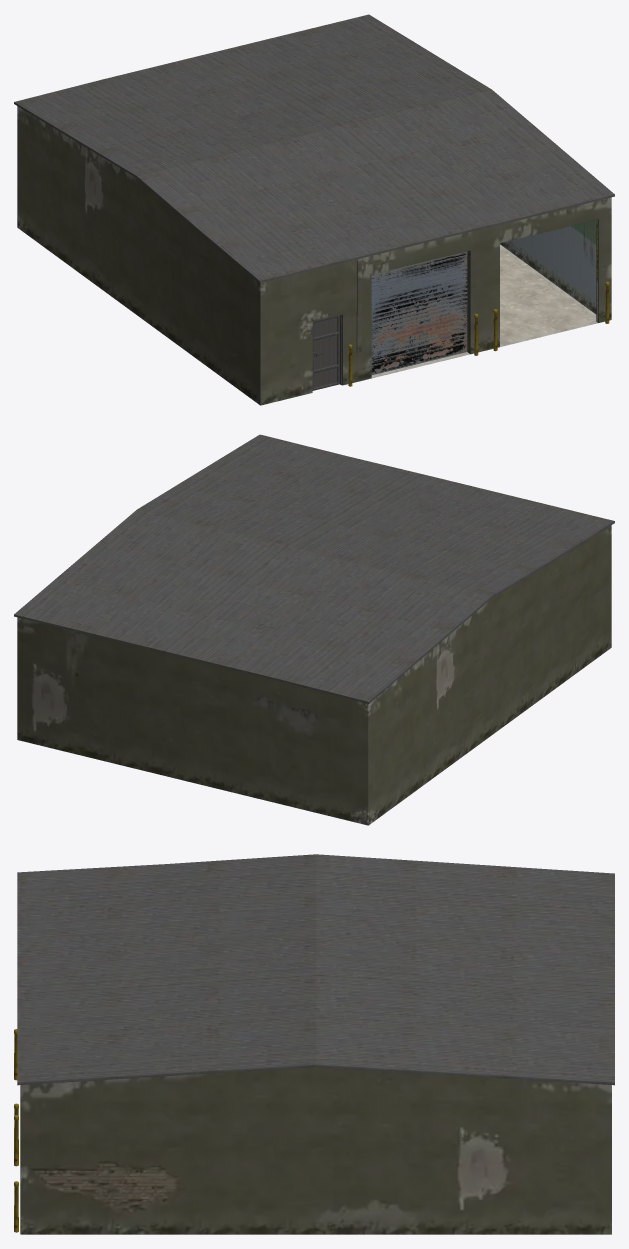
File: lm-warehouse.glb
3 views of the same model, one above another, from view 1: azimuth 30°, elevation 25°; view 2: azimuth 150°, elevation 25°; view 3: azimuth 270°, elevation 25° (orthographic). The views are drawn at different scales.
Visible parts, largest first — view 1: warehouseRoof, buildWarehouse, wareHouse-Gate, warehouseFloor, internalArea, wareHousedoor; view 2: warehouseRoof, buildWarehouse; view 3: warehouseRoof, buildWarehouse.
Part boxes in pixels (x1=…): warehouseRoof: x1=14, y1=14, x2=614, y2=282; buildWarehouse: x1=17, y1=106, x2=611, y2=405; wareHouse-Gate: x1=371, y1=251, x2=467, y2=374; warehouseFloor: x1=371, y1=244, x2=597, y2=378; internalArea: x1=500, y1=220, x2=596, y2=314; wareHousedoor: x1=312, y1=315, x2=341, y2=390; warehouseRoof: x1=14, y1=434, x2=614, y2=703; buildWarehouse: x1=17, y1=525, x2=611, y2=825; warehouseRoof: x1=17, y1=854, x2=614, y2=1085; buildWarehouse: x1=20, y1=1067, x2=611, y2=1234.
Bounding box in the file's own units: 10.1 × 3.85 × 12.19.
Materials: 2 (2 with a texture image).
